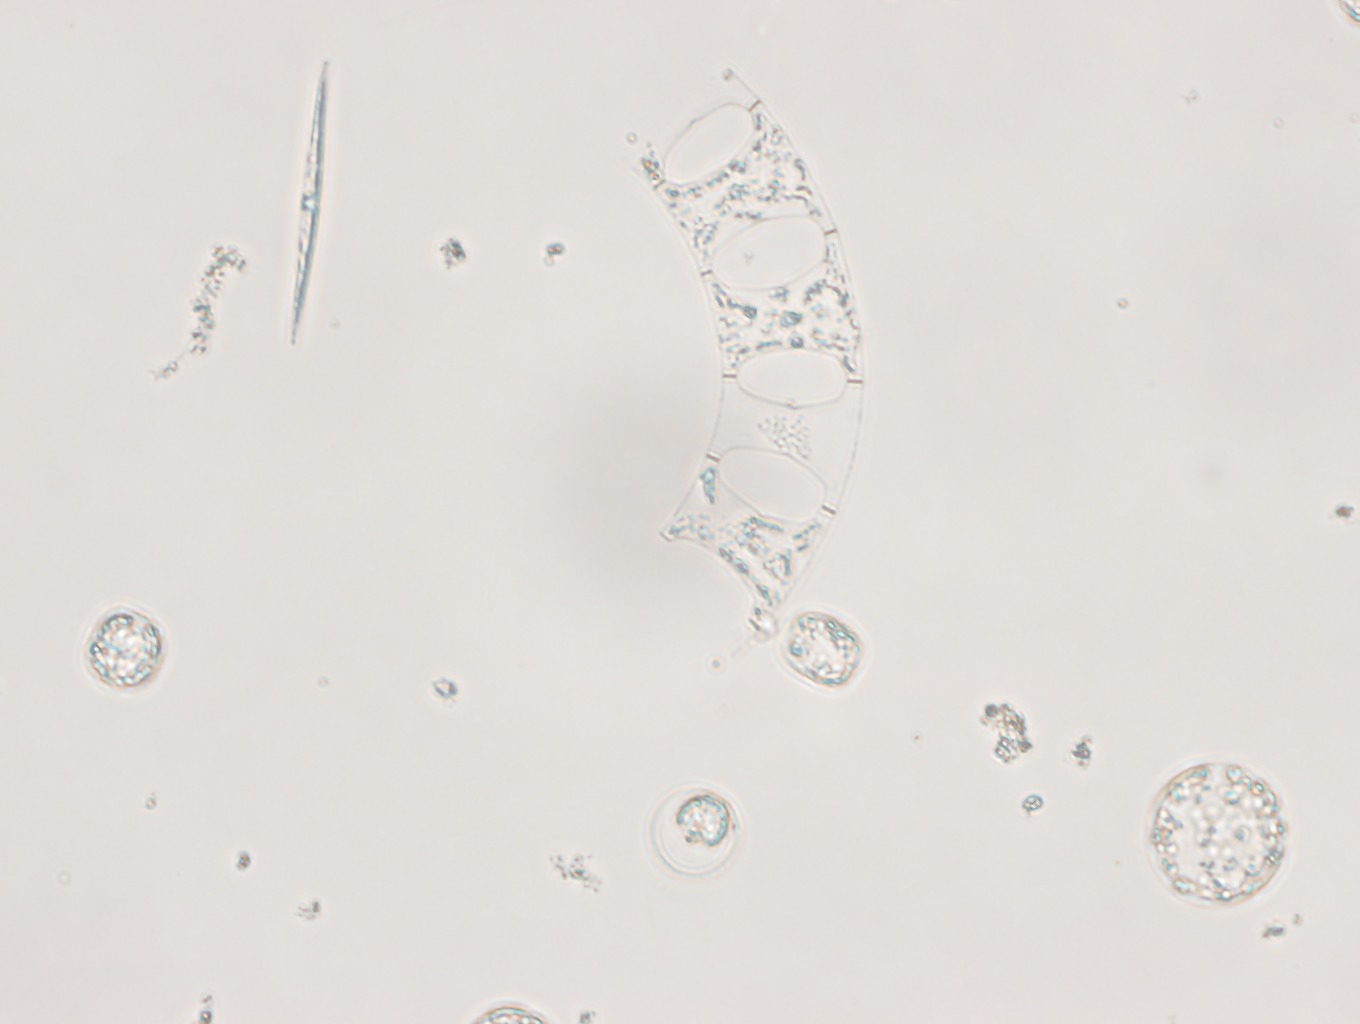eucampia: (585, 60, 887, 666)
pleurosigma pelagicum: (284, 49, 347, 353)
